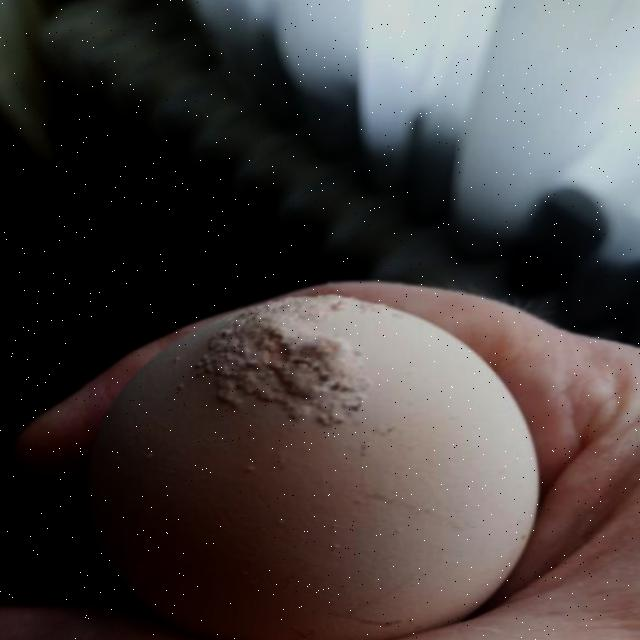Calcium Deposit Egg: (90, 290, 551, 640)
